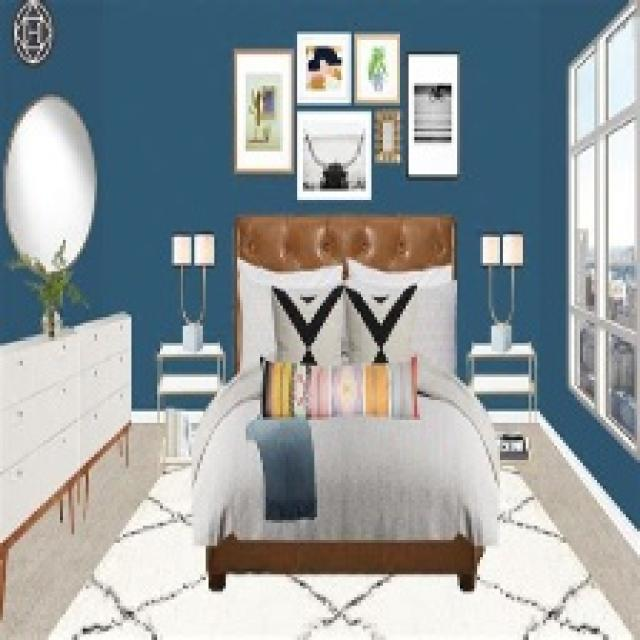Bed: (186, 212, 500, 592)
